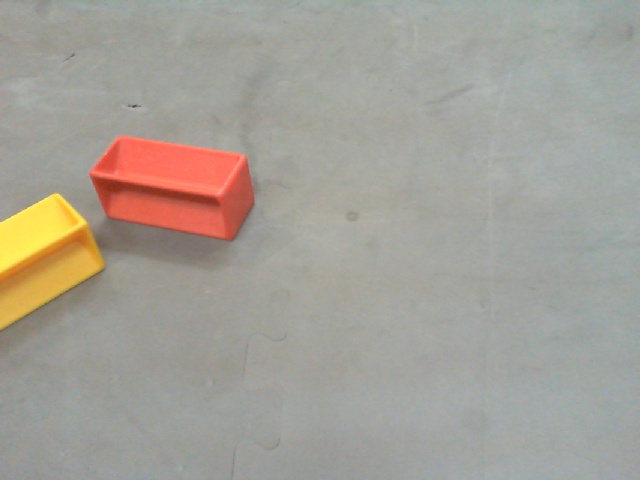RedSample: (89, 130, 255, 243)
YellowSample: (1, 181, 108, 329)
